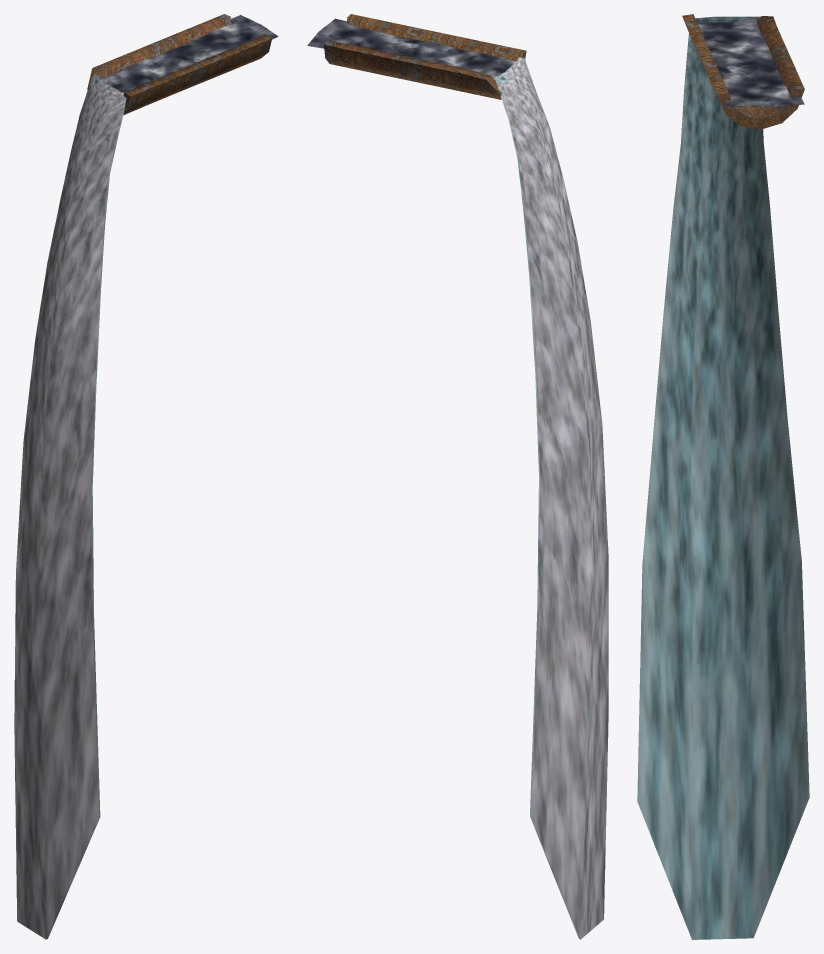
File: INST_SM_WATERFALL.fbx
The picture shows the model from 3 angles, left to right: view 1: azimuth 30°, elevation 25°; view 2: azimuth 150°, elevation 25°; view 3: azimuth 270°, elevation 25°; orthographic projection. The views are drawn at different scales.
Visible parts, largest first — view 1: INST_SM_WATERFALL; view 2: INST_SM_WATERFALL; view 3: INST_SM_WATERFALL.
Part boxes in pixels (x1,y1,x2,y2): INST_SM_WATERFALL: (14, 14, 278, 939); INST_SM_WATERFALL: (307, 14, 608, 939); INST_SM_WATERFALL: (637, 14, 809, 939).
Size of the model in its own units: 124396 by 388389 by 61828.
Materials: 5 (5 with a texture image).
